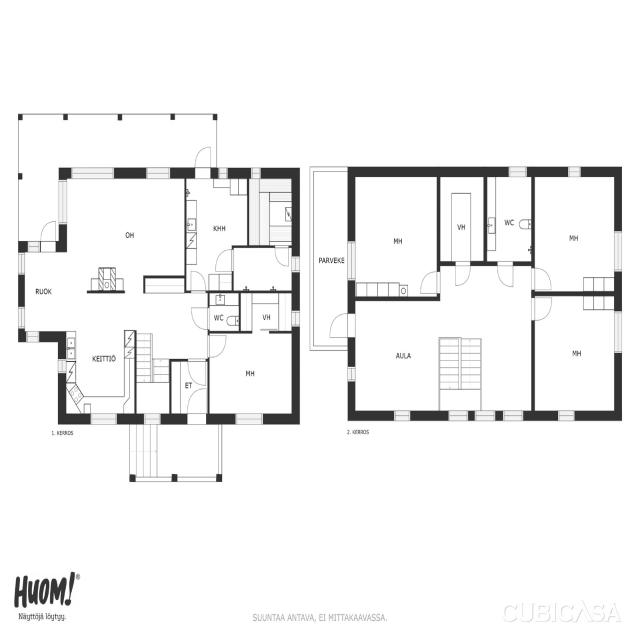door: (182, 360, 210, 418), (207, 293, 240, 332), (326, 310, 356, 341), (192, 142, 214, 180), (212, 244, 238, 276), (186, 386, 208, 422), (530, 292, 554, 324), (494, 258, 517, 291), (417, 268, 442, 297), (188, 303, 212, 333), (206, 331, 229, 362), (187, 354, 208, 387), (452, 258, 472, 290), (39, 218, 59, 249), (531, 264, 553, 292), (272, 243, 293, 272), (187, 268, 208, 296)
window: (66, 164, 120, 183), (56, 173, 71, 230), (84, 409, 122, 429), (344, 235, 358, 287), (231, 409, 268, 428), (141, 163, 175, 182), (16, 311, 36, 343), (612, 226, 624, 276), (612, 308, 624, 356), (344, 350, 357, 392), (471, 406, 499, 424), (444, 408, 474, 424), (499, 408, 527, 424), (140, 410, 163, 429), (505, 163, 530, 180), (22, 328, 44, 346), (390, 408, 414, 424), (554, 408, 578, 424), (16, 248, 28, 278), (16, 303, 27, 334), (290, 305, 302, 332), (290, 252, 303, 276), (565, 164, 583, 180), (56, 354, 68, 378), (214, 165, 232, 180), (248, 165, 264, 180)
zone: (351, 290, 531, 420), (61, 175, 185, 292), (351, 173, 439, 300), (532, 172, 618, 294), (351, 302, 443, 414), (534, 293, 617, 416), (62, 292, 137, 420), (209, 330, 296, 421), (185, 174, 247, 286), (437, 171, 486, 265), (485, 174, 532, 264), (18, 244, 63, 337), (248, 175, 296, 247), (232, 245, 296, 293), (238, 289, 298, 333), (208, 292, 240, 332)
